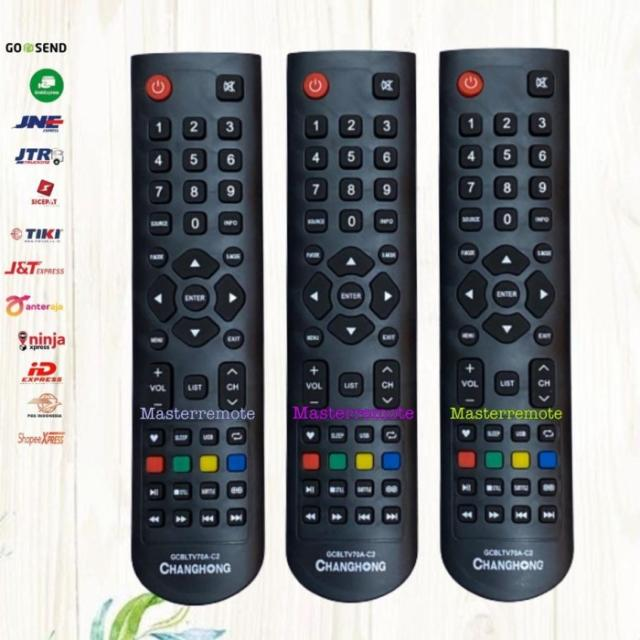remote: (441, 49, 576, 609), (130, 53, 265, 603), (289, 53, 417, 605)
